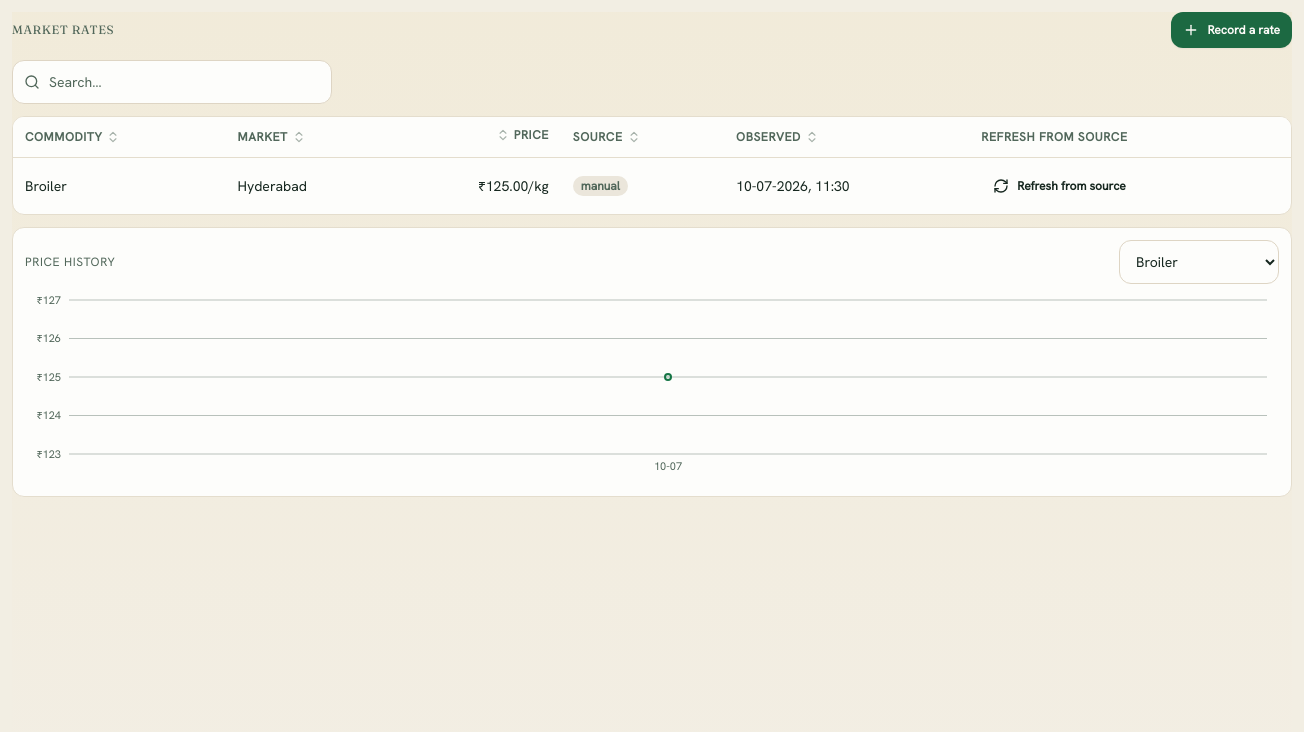
it: MarketPanel › wires the Phase-7 live adapter: per-row Refresh posts to /market/refresh
The width and height of the screenshot is (1304, 732).
Click the button "Refresh from source" at (1060, 186), box [981, 168, 1138, 204]
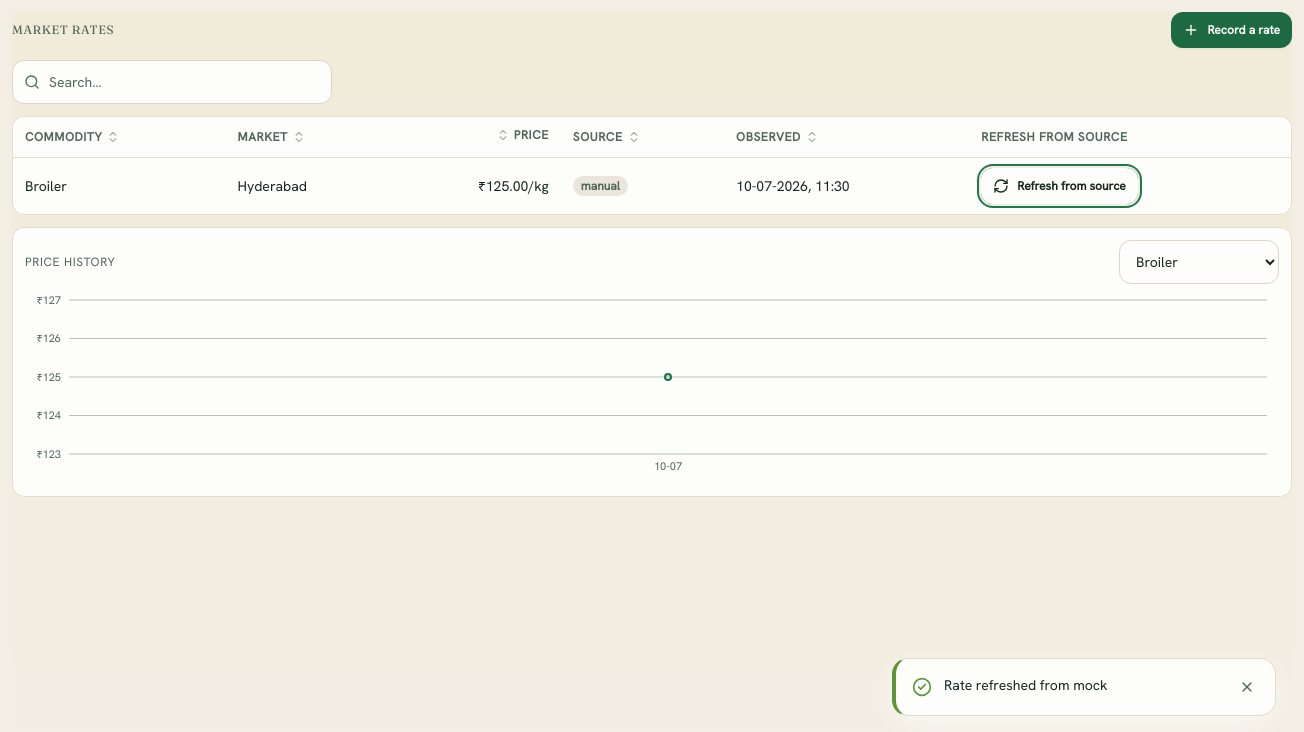
Expected: the text "Rate refreshed from mock" is shown, [944, 676, 1108, 694]
